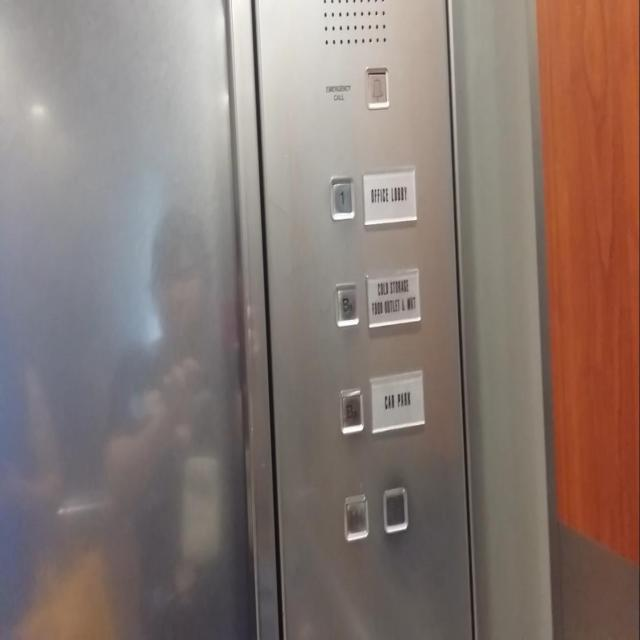1: (328, 172, 356, 223)
B1: (333, 278, 359, 330)
B2: (337, 384, 364, 436)
alarm: (364, 64, 390, 110)
blur: (381, 484, 409, 537)
open: (342, 491, 370, 544)
